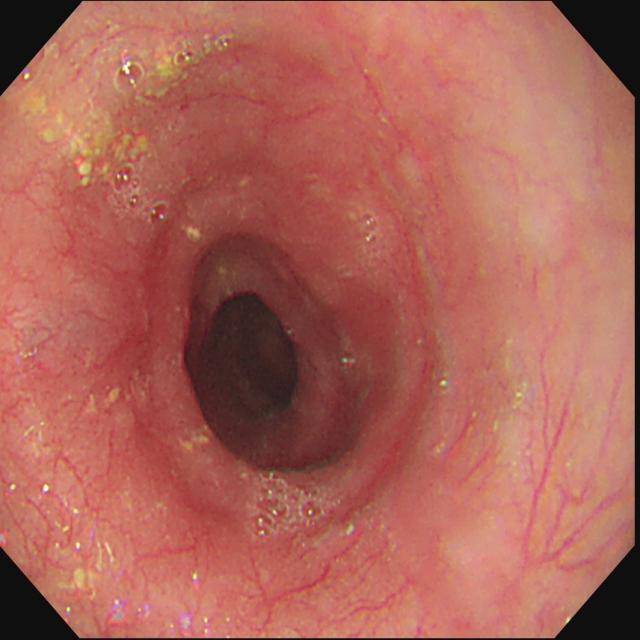E: (204, 289, 307, 427)
J: (25, 96, 148, 187), (151, 49, 188, 99)
T: (248, 469, 326, 539), (115, 168, 170, 226), (115, 62, 145, 94), (361, 214, 381, 245)
